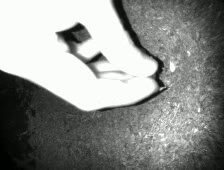corn: (168, 59, 178, 75)
